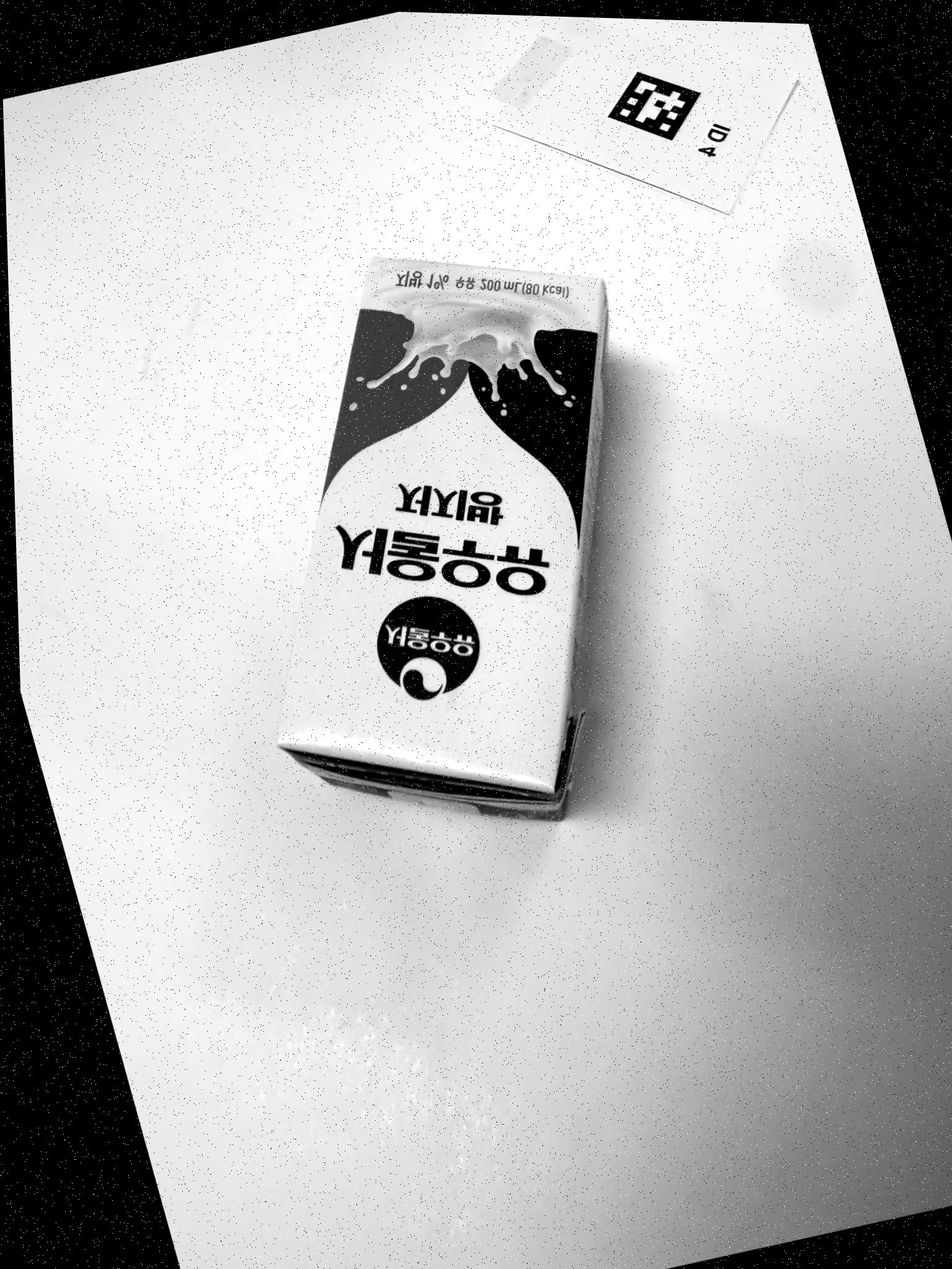milk_blue: (280, 257, 608, 817)
